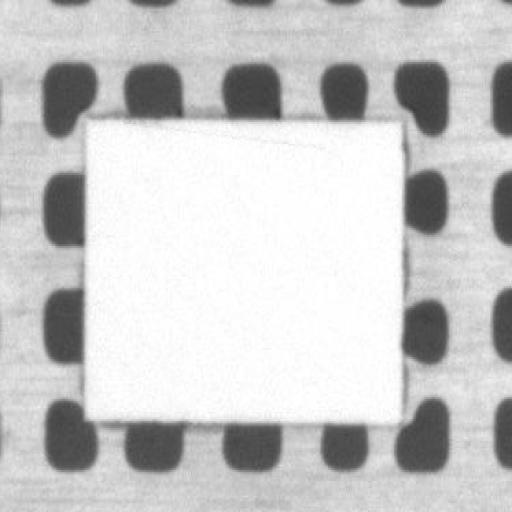DIE_CRACK: (162, 90, 428, 110)
